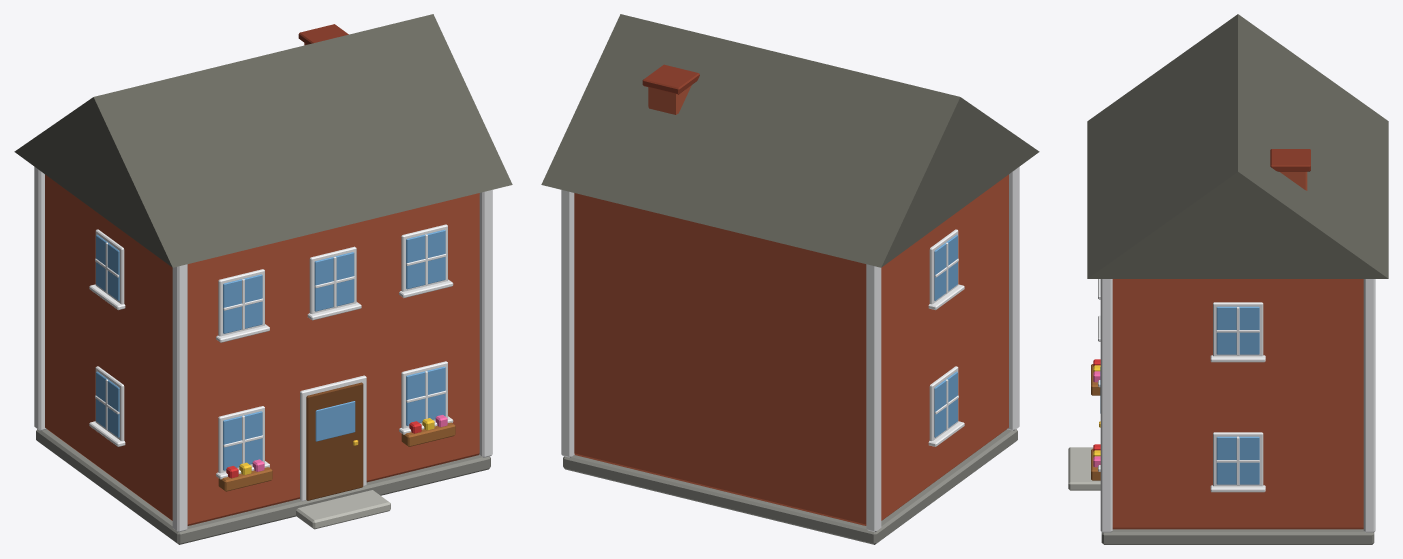
The model's file is RedTwoStoryHouse.fbx.
The picture shows the model from 3 angles, left to right: view 1: azimuth 30°, elevation 25°; view 2: azimuth 150°, elevation 25°; view 3: azimuth 270°, elevation 25°; orthographic projection. The views are drawn at different scales.
Parts seen in each view (by area): view 1: RedTwoStoryHouse; view 2: RedTwoStoryHouse; view 3: RedTwoStoryHouse.
Part boxes in pixels (x1=…): RedTwoStoryHouse: x1=14, y1=14, x2=512, y2=544; RedTwoStoryHouse: x1=541, y1=14, x2=1039, y2=544; RedTwoStoryHouse: x1=1068, y1=14, x2=1388, y2=544.
Size of the model in its own units: 15.6 by 17.55 by 13.4.
1 material, 1 textured.
